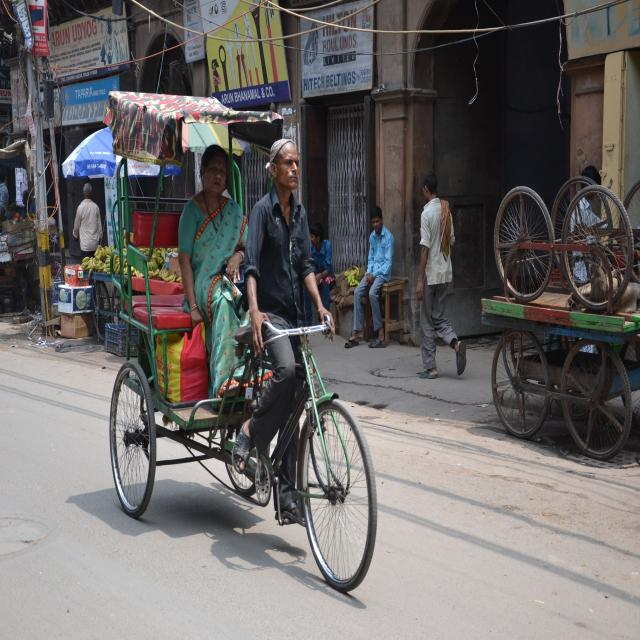bicycle: (106, 92, 378, 592)
